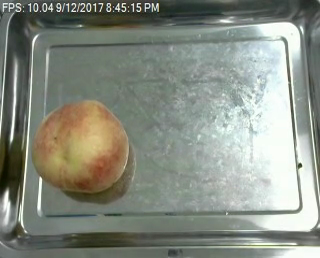Peach: (32, 99, 129, 194)
